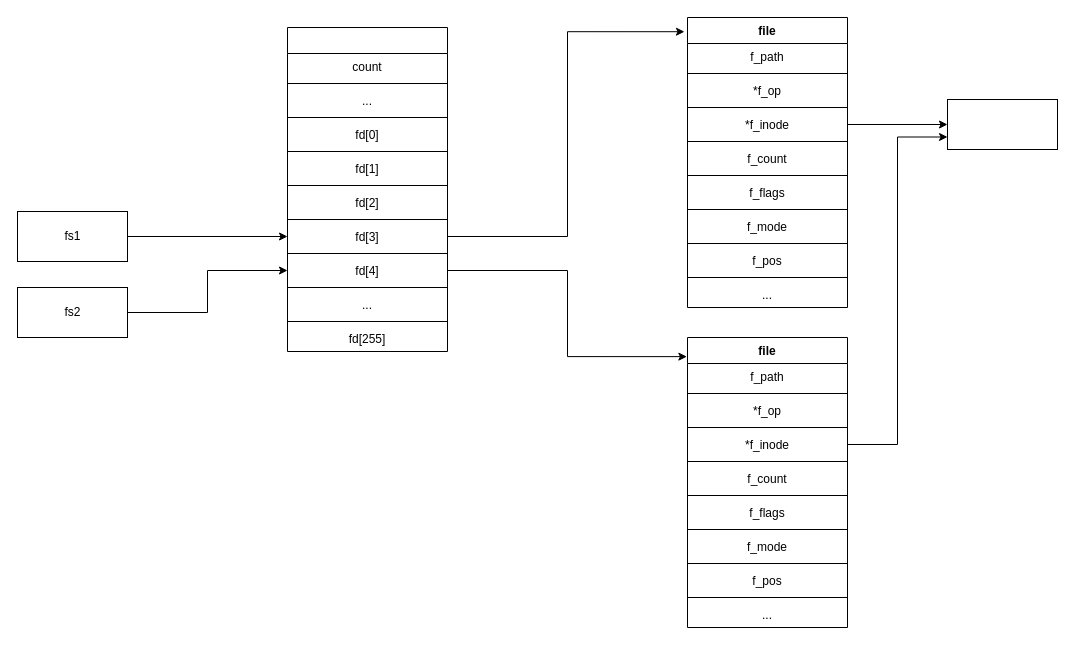
Image size: 1075x648. Some labels were removed from this diagram. Each missing label, with the box of its shape:
files_struct: (286, 26, 448, 352)
inode: (946, 98, 1058, 150)
